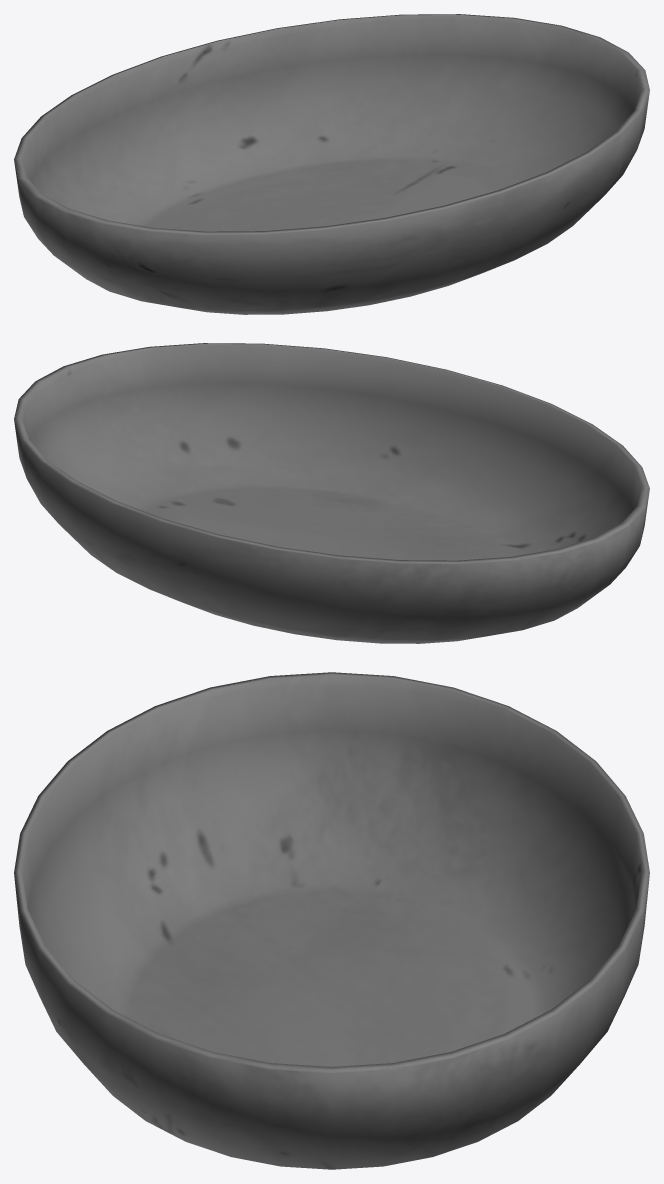
File: sb_obj_indoor006_Plate09.fbx
3 renders of one model, top to bottom at view 1: azimuth 30°, elevation 25°; view 2: azimuth 150°, elevation 25°; view 3: azimuth 270°, elevation 25°, orthographic. The views are drawn at different scales.
Parts seen in each view (by area): view 1: Plate9; view 2: Plate9; view 3: Plate9.
Part boxes in pixels (bbox=[...]): Plate9: bbox=[14, 14, 649, 314]; Plate9: bbox=[14, 343, 649, 643]; Plate9: bbox=[14, 672, 649, 1169].
Size of the model in its own units: 0.3677 by 0.0684 by 0.2465.
